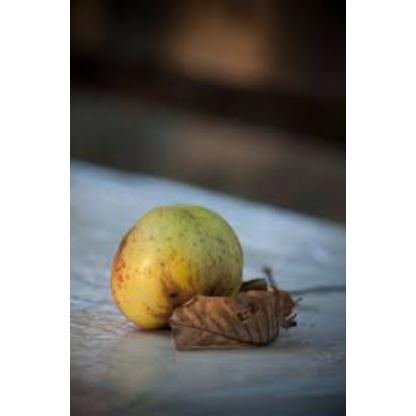apple: (111, 209, 247, 337)
